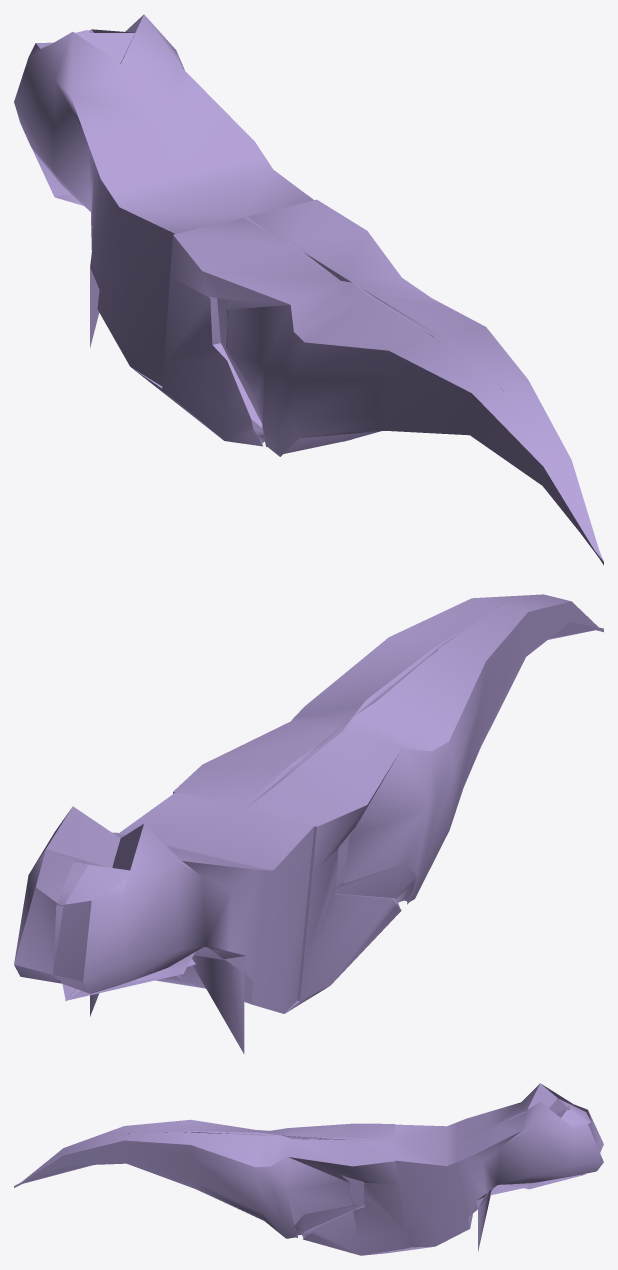
3 views of the same model, one above another, from view 1: azimuth 30°, elevation 25°; view 2: azimuth 150°, elevation 25°; view 3: azimuth 270°, elevation 25° (orthographic). The views are drawn at different scales.
Visible parts, largest first — view 1: split_parent_0; view 2: split_parent_0; view 3: split_parent_0.
Part boxes in pixels (left/top/right/bottom): split_parent_0: left=14, top=14, right=603, bottom=565; split_parent_0: left=14, top=594, right=603, bottom=1053; split_parent_0: left=14, top=1083, right=603, bottom=1255.
Size of the model in its own units: 0.1716 by 0.2795 by 1.
